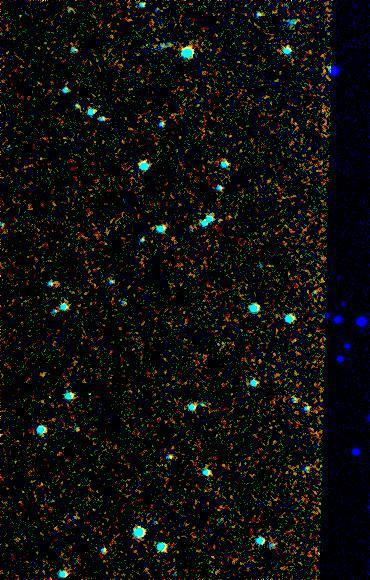star: (49, 266, 79, 296)
